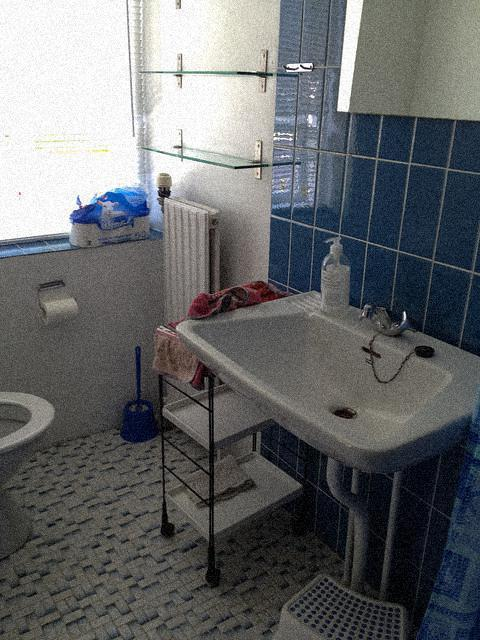Lavamanos: (169, 253, 479, 482)
